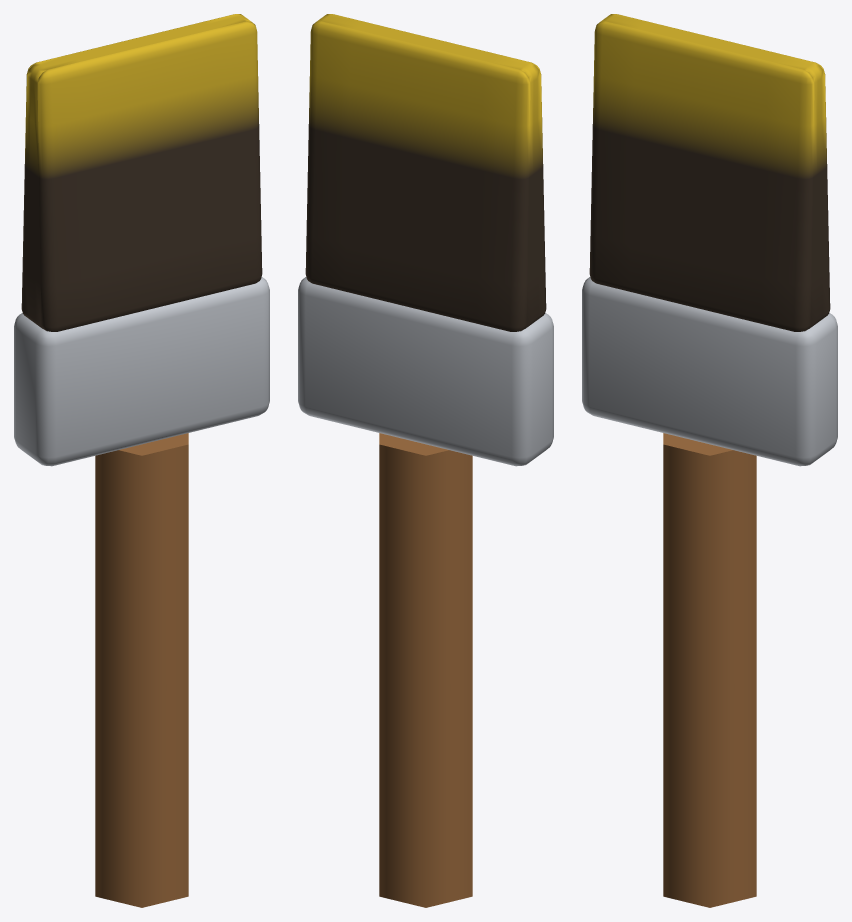
File: paint_brush_wide.glb
3 renders of one model, left to right at view 1: azimuth 30°, elevation 25°; view 2: azimuth 150°, elevation 25°; view 3: azimuth 330°, elevation 25°, orthographic.
Visible parts, largest first — view 1: paint_brush_wide; view 2: paint_brush_wide; view 3: paint_brush_wide.
Part boxes in pixels (x1,y1,x2,y2): paint_brush_wide: (14, 14, 269, 907); paint_brush_wide: (298, 14, 553, 907); paint_brush_wide: (582, 14, 837, 907).
Bounding box in the file's own units: 0.07 × 0.2425 × 0.0242.
